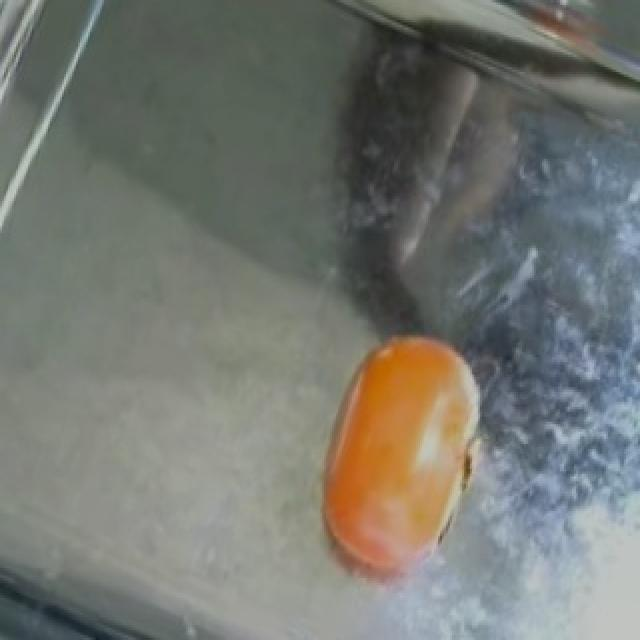Fruit: (304, 315, 496, 608)
